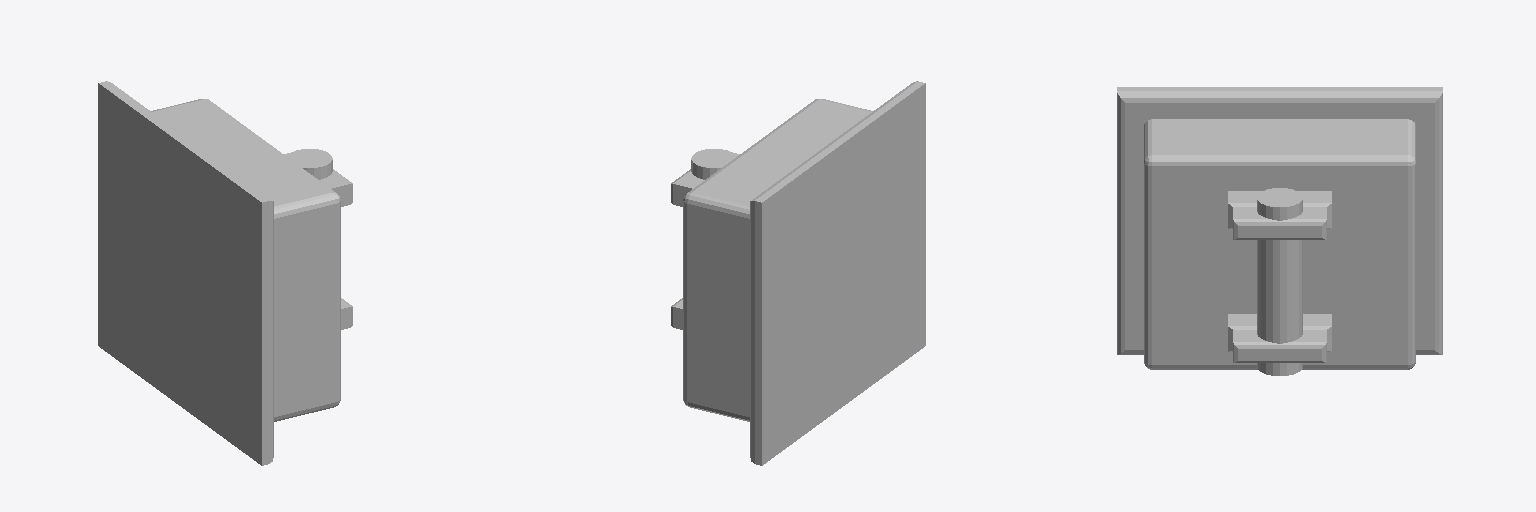
Rendered from mount_base.obj.
3 views of the same model, side by side, from view 1: azimuth 30°, elevation 25°; view 2: azimuth 150°, elevation 25°; view 3: azimuth 270°, elevation 25° (orthographic).
Parts seen in each view (by area): view 1: mount_base; view 2: mount_base; view 3: mount_base.
Boxes of the visible parts, <box> form: mount_base: <box>98,81,352,465</box>; mount_base: <box>671,81,925,465</box>; mount_base: <box>1117,87,1442,375</box>.
Bounding box in the file's own units: 0.9409 × 1.56 × 1.75.